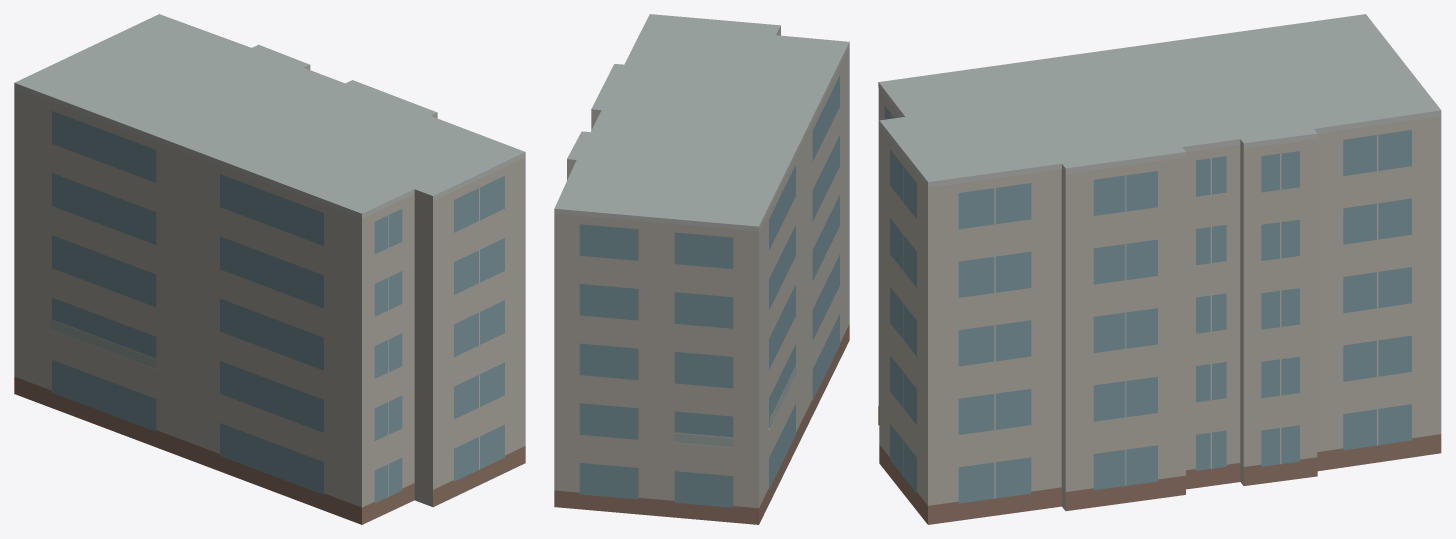
File: survey-upis-32989966.glb
3 views of the same model, side by side, from view 1: azimuth 30°, elevation 25°; view 2: azimuth 150°, elevation 25°; view 3: azimuth 270°, elevation 25° (orthographic). The views are drawn at different scales.
Parts seen in each view (by area): view 1: survey-upis-32989966.tmp; view 2: survey-upis-32989966.tmp; view 3: survey-upis-32989966.tmp.
Part boxes in pixels (x1=…): survey-upis-32989966.tmp: x1=14, y1=14, x2=525, y2=524; survey-upis-32989966.tmp: x1=554, y1=14, x2=849, y2=524; survey-upis-32989966.tmp: x1=878, y1=14, x2=1441, y2=524.
Bounding box in the file's own units: 15.88 × 15.1 × 22.48.
